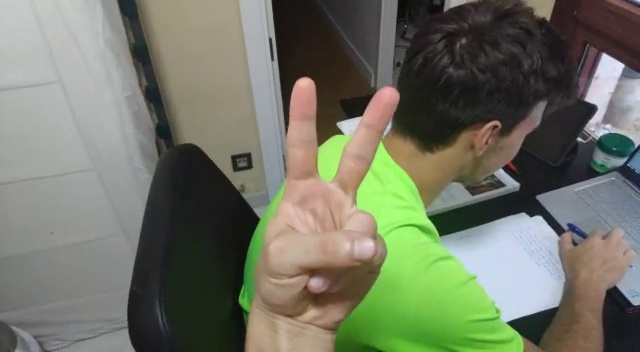Peace: (241, 74, 409, 325)
